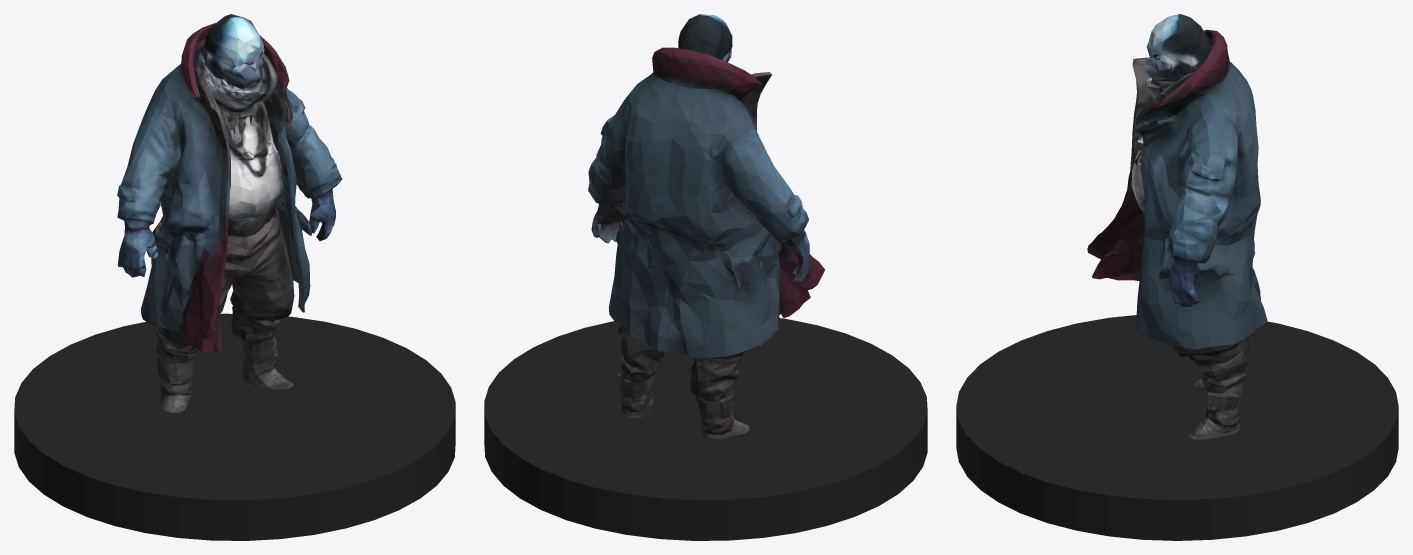
Rendered from zombie-bloated.glb.
The picture shows the model from 3 angles, left to right: view 1: azimuth 30°, elevation 25°; view 2: azimuth 150°, elevation 25°; view 3: azimuth 270°, elevation 25°; orthographic projection.
Parts seen in each view (by area): view 1: base, figure; view 2: base, figure; view 3: base, figure.
Boxes of the visible parts, x1,y1,x2,y2 form: base: [14, 313, 455, 540]; figure: [117, 14, 342, 412]; base: [484, 318, 927, 540]; figure: [588, 14, 824, 439]; base: [956, 315, 1398, 540]; figure: [1087, 14, 1267, 439].
Size of the model in its own units: 1.18 by 1.27 by 1.18.
2 materials, 1 textured.
